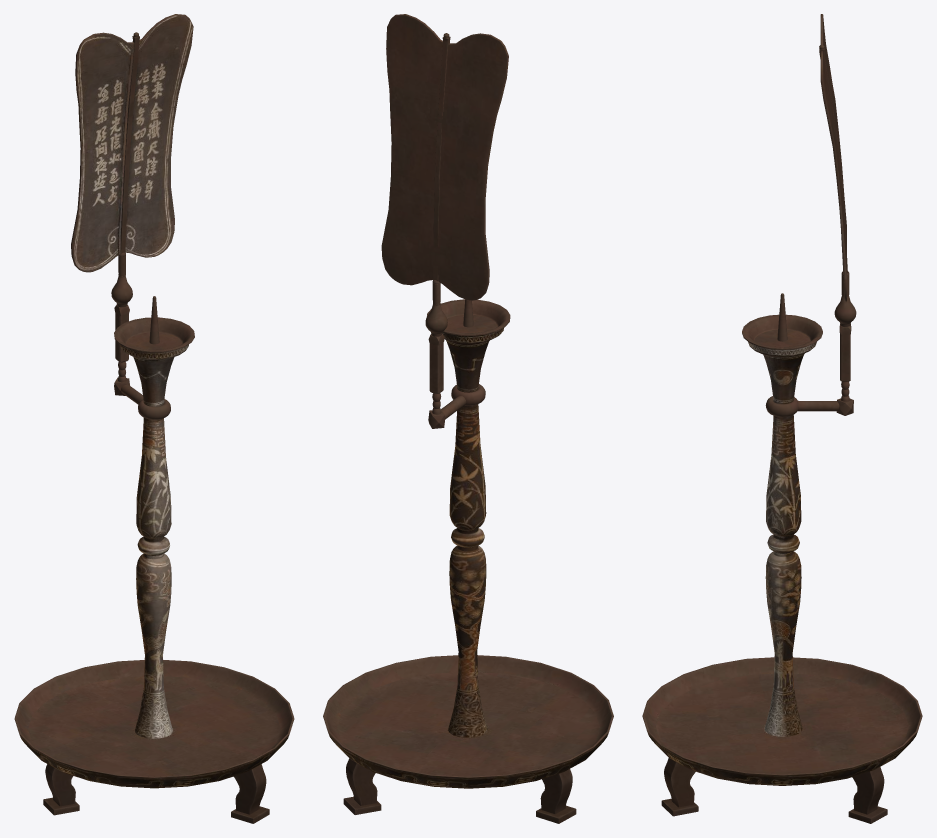
File: gt_candle.glb
The picture shows the model from 3 angles, left to right: view 1: azimuth 30°, elevation 25°; view 2: azimuth 150°, elevation 25°; view 3: azimuth 270°, elevation 25°; orthographic projection. The views are drawn at different scales.
Visible parts, largest first — view 1: SM_GTJ_CandlestickA; view 2: SM_GTJ_CandlestickA; view 3: SM_GTJ_CandlestickA.
Boxes of the visible parts, x1,y1,x2,y2 form: SM_GTJ_CandlestickA: [14, 14, 294, 823]; SM_GTJ_CandlestickA: [323, 14, 613, 823]; SM_GTJ_CandlestickA: [642, 14, 922, 823].
Size of the model in its own units: 0.2281 by 0.6747 by 0.2281.
Materials: 1 (1 with a texture image).
